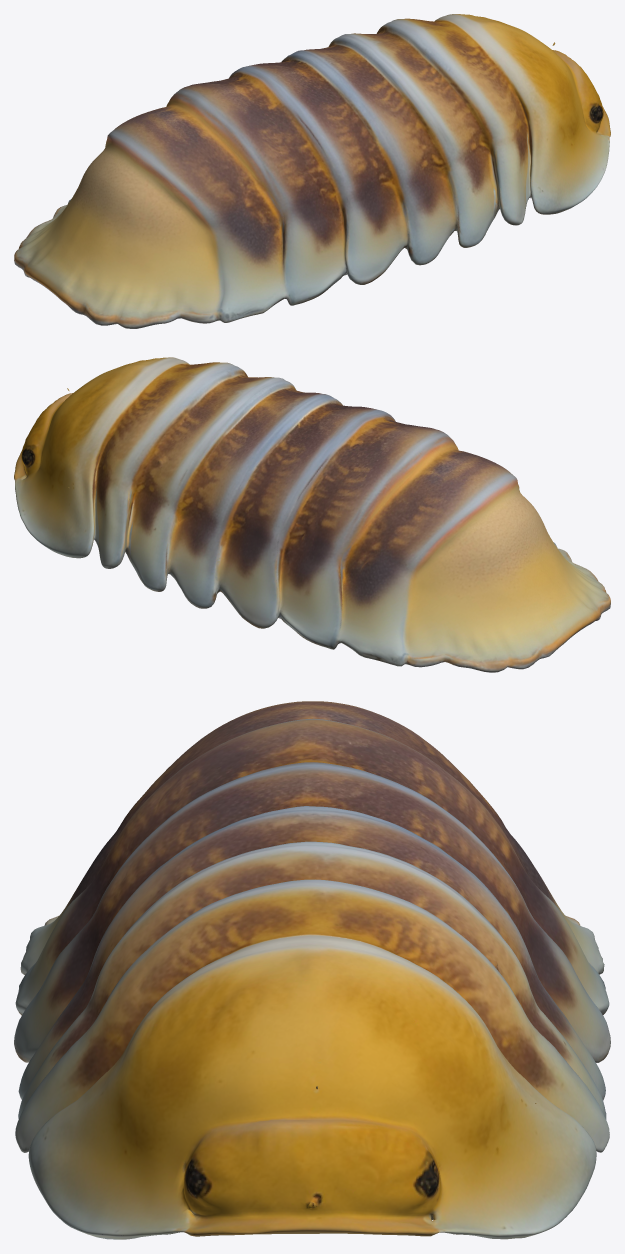
The model's file is insect+larva+3d+model (1).fbx.
3 renders of one model, top to bottom at view 1: azimuth 30°, elevation 25°; view 2: azimuth 150°, elevation 25°; view 3: azimuth 270°, elevation 25°, orthographic. The views are drawn at different scales.
Parts seen in each view (by area): view 1: tripo_node_af70e582; view 2: tripo_node_af70e582; view 3: tripo_node_af70e582.
Boxes of the visible parts, <box> form: tripo_node_af70e582: <box>14,14,610,328</box>; tripo_node_af70e582: <box>14,357,610,672</box>; tripo_node_af70e582: <box>14,701,610,1239</box>.
Size of the model in its own units: 0.9994 by 0.307 by 0.5247.
Materials: 1 (1 with a texture image).
